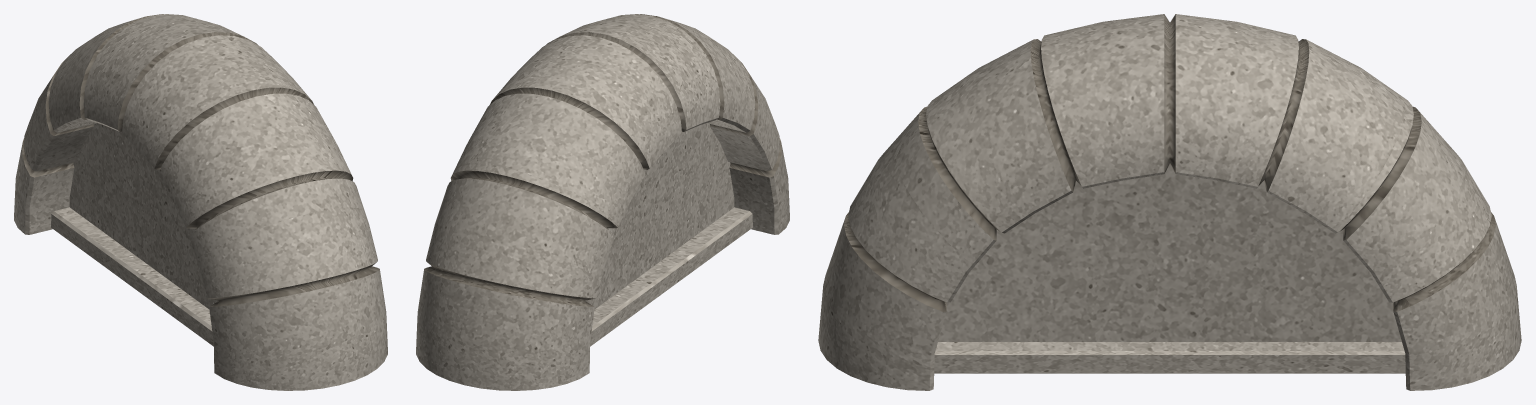
Rendered from GB_019_020_door_top.glb.
The picture shows the model from 3 angles, left to right: view 1: azimuth 30°, elevation 25°; view 2: azimuth 150°, elevation 25°; view 3: azimuth 270°, elevation 25°; orthographic projection. The views are drawn at different scales.
Parts seen in each view (by area): view 1: GB_019_020_door_top; view 2: GB_019_020_door_top; view 3: GB_019_020_door_top.
Boxes of the visible parts, x1,y1,x2,y2 form: GB_019_020_door_top: [14, 14, 387, 390]; GB_019_020_door_top: [416, 14, 789, 390]; GB_019_020_door_top: [818, 14, 1521, 390].
Bounding box in the file's own units: 0.7587 × 1.11 × 2.24.
Materials: 1 (1 with a texture image).
